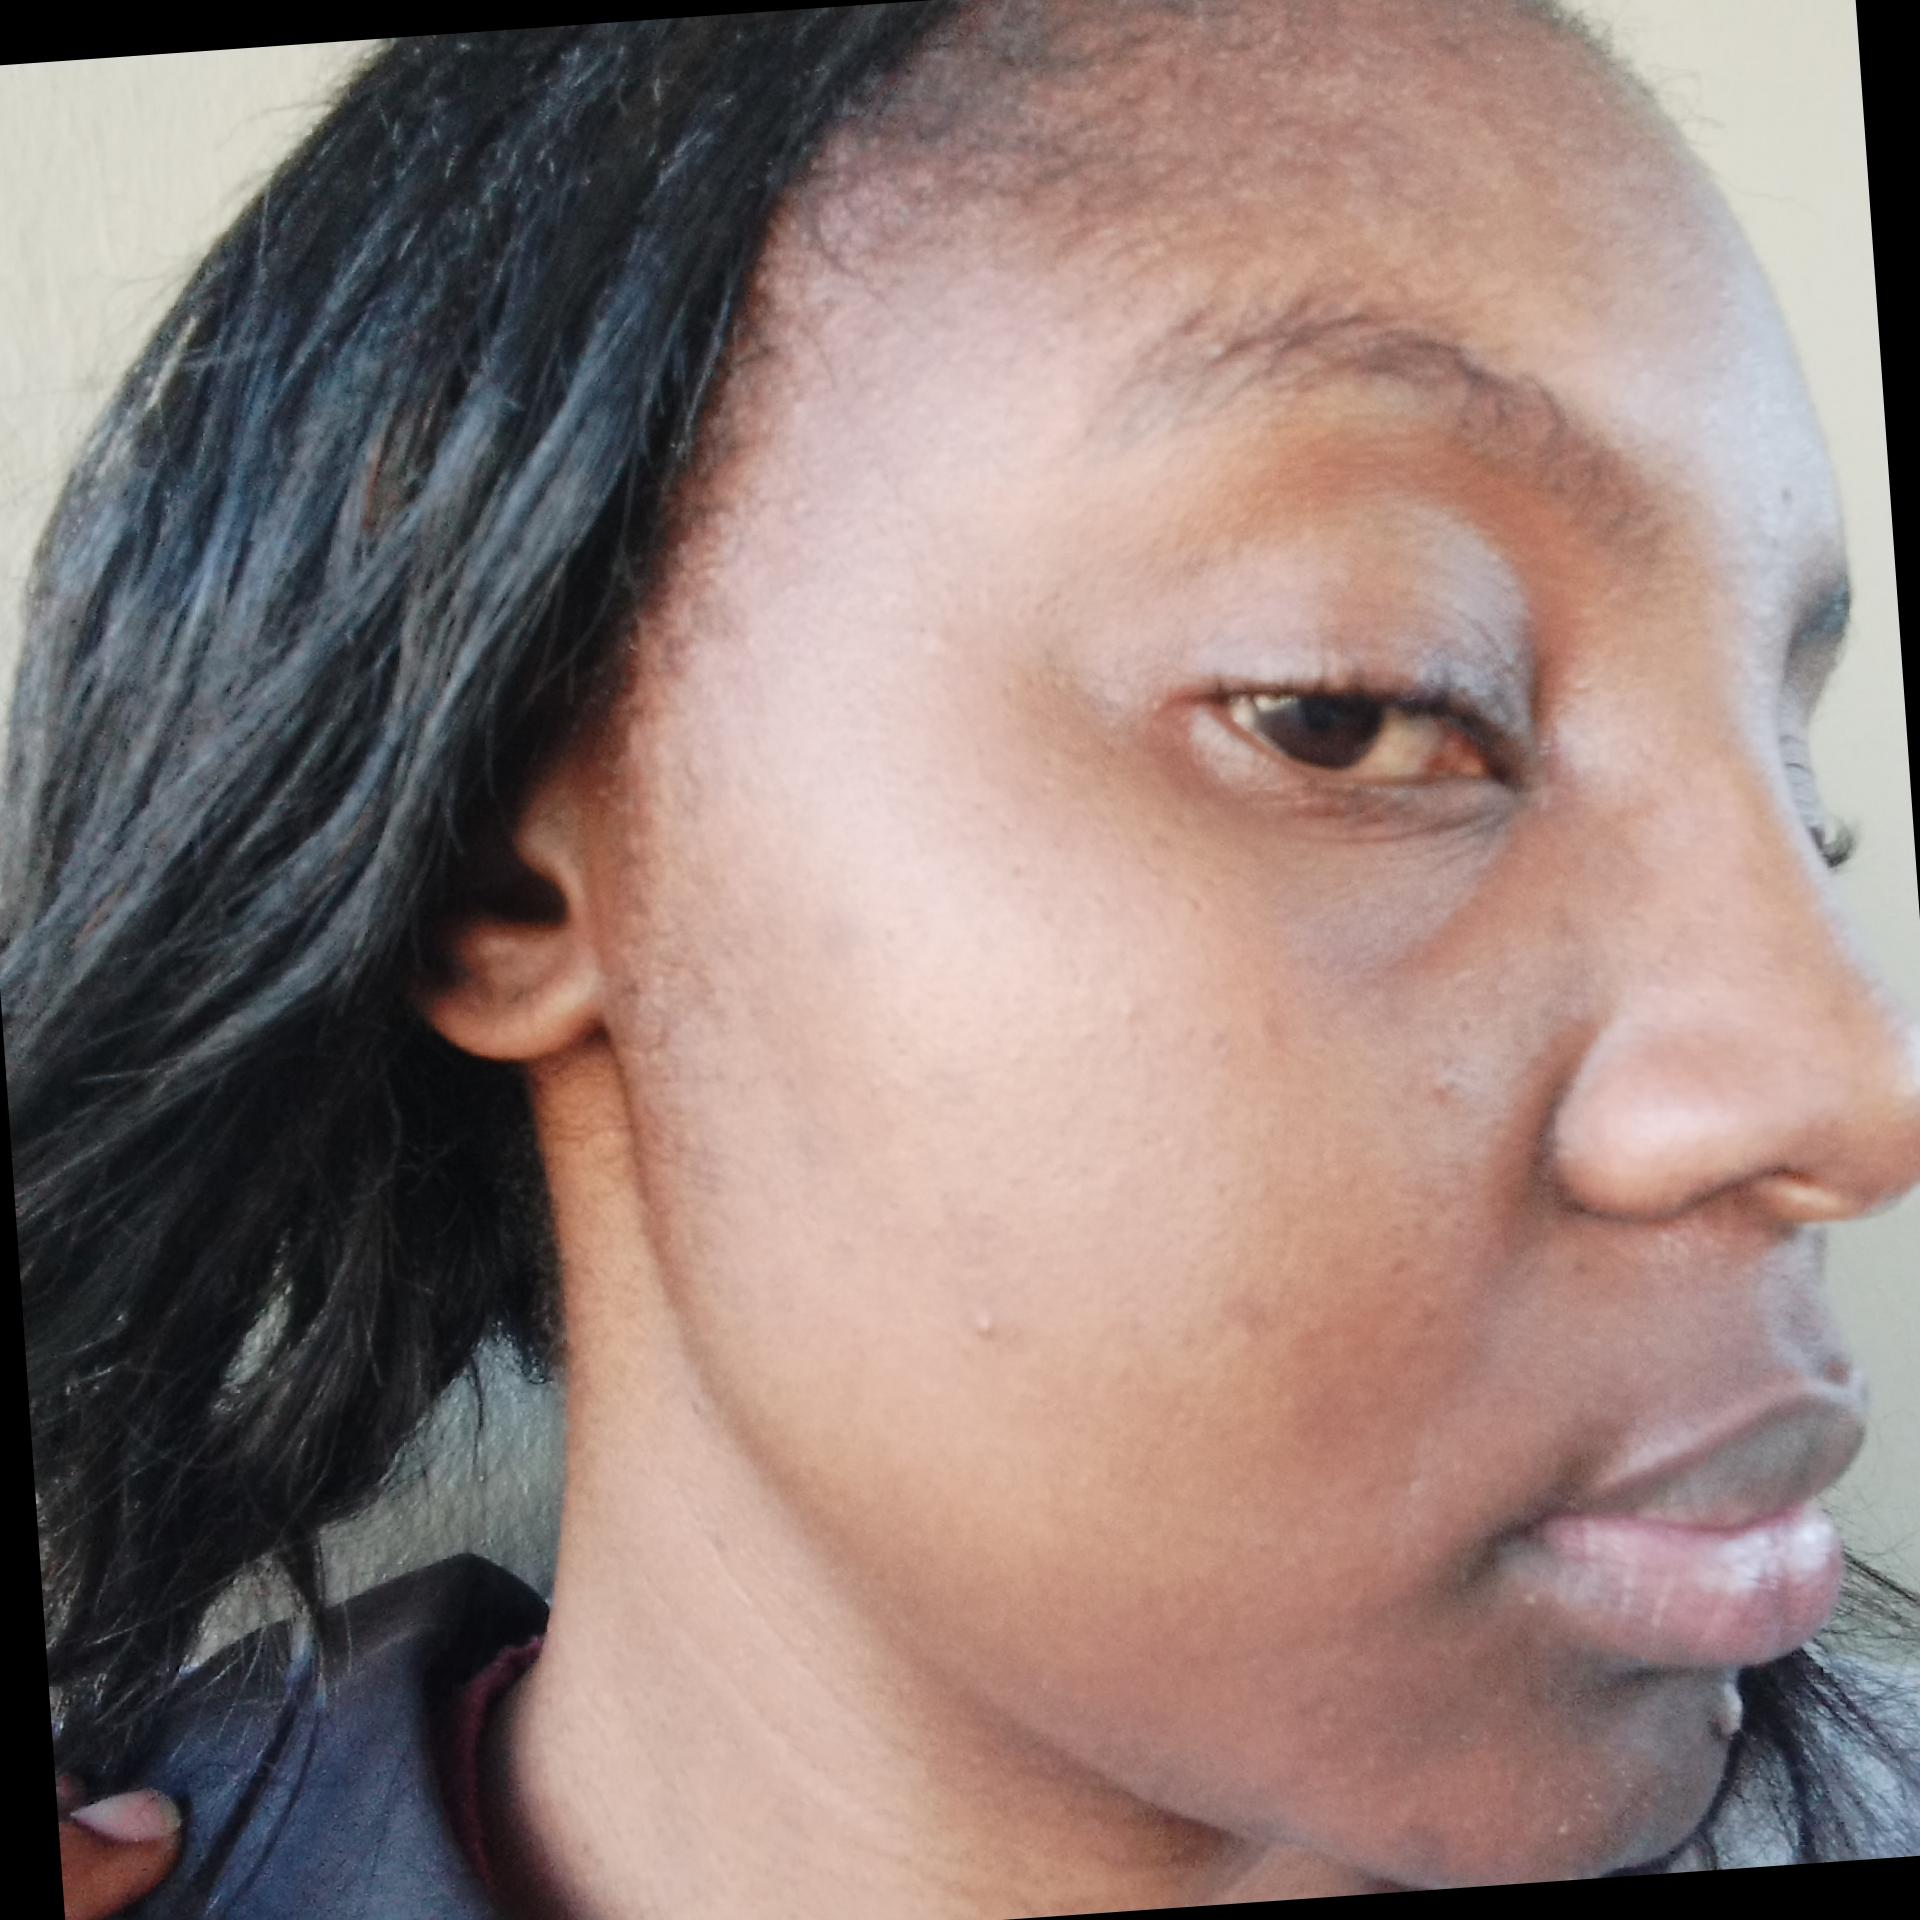Acne: (1190, 1289, 1284, 1363), (946, 1296, 1018, 1361), (1412, 1053, 1479, 1118), (1245, 995, 1306, 1062), (1102, 983, 1148, 1037)
